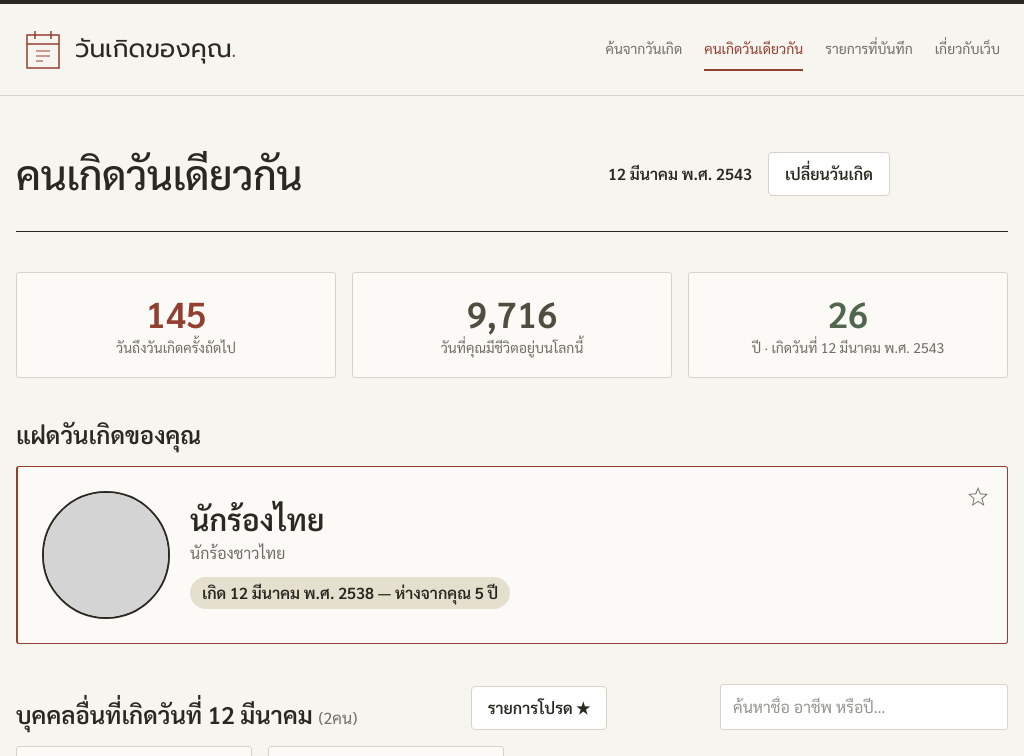
Test: shared birthday and birthday twins › can change the shared birthday from Twins
Expected: the text "นักร้องไทย" is shown, [190,499,324,538]
Click the button "เปลี่ยนวันเกิด".
click(829, 174)  # box [768,152,890,196]
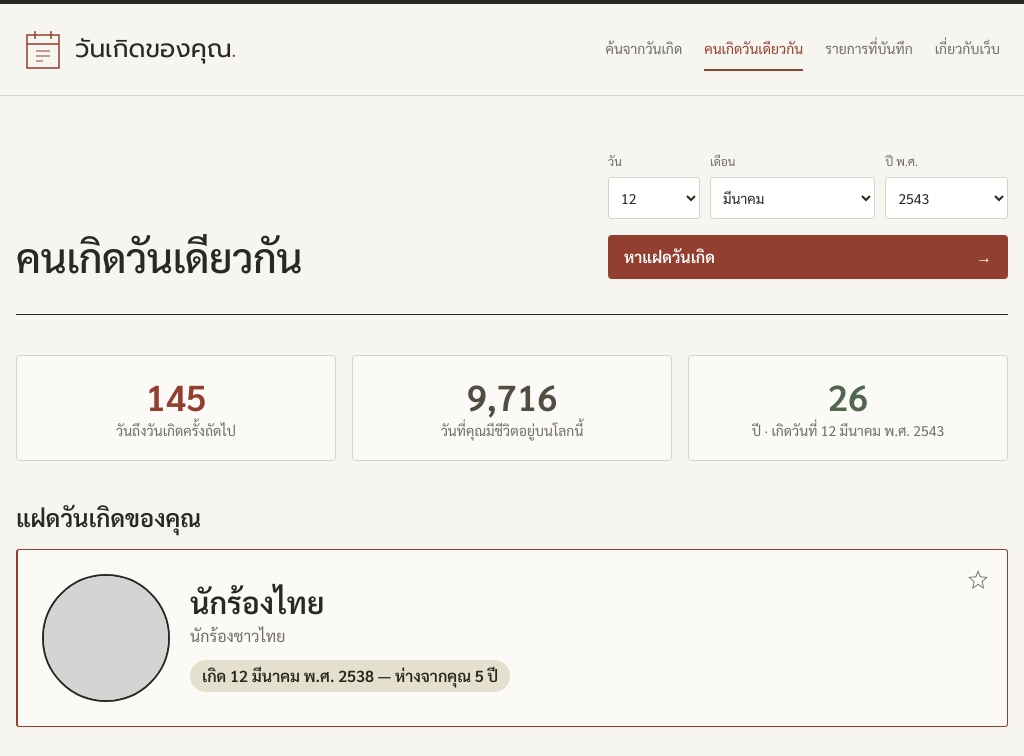
Select "15" in the dropdown labelled "วัน" at (654, 198), box [608,177,700,219]
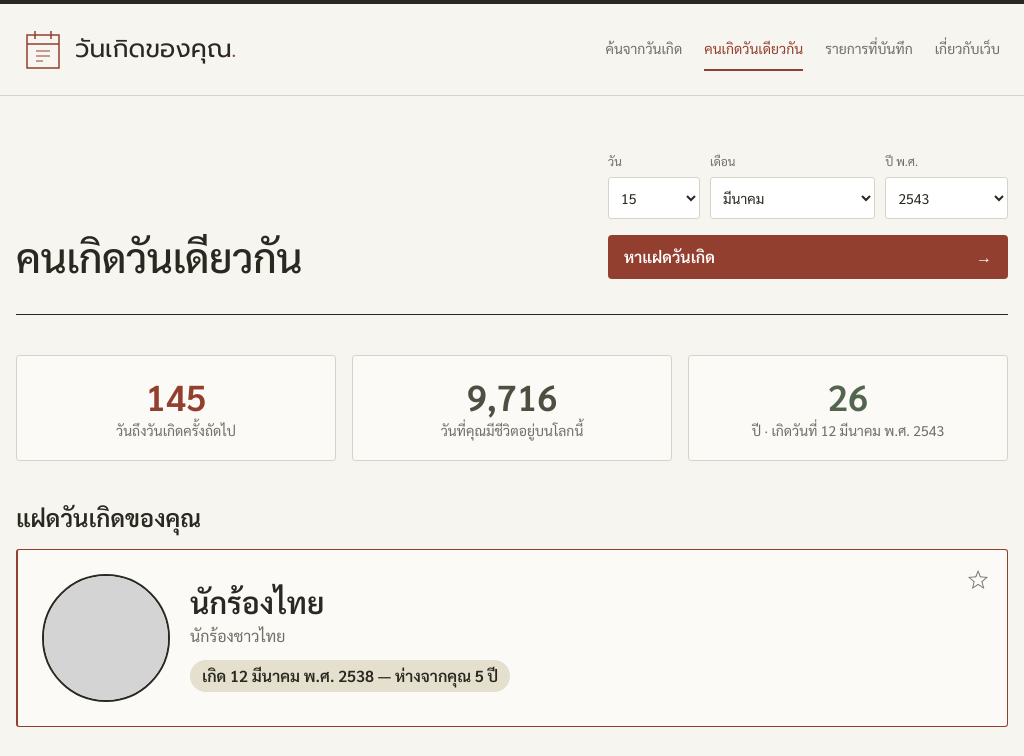
Click the button "หาแฝดวันเกิด →".
click(669, 256)  # box [608,235,1008,279]
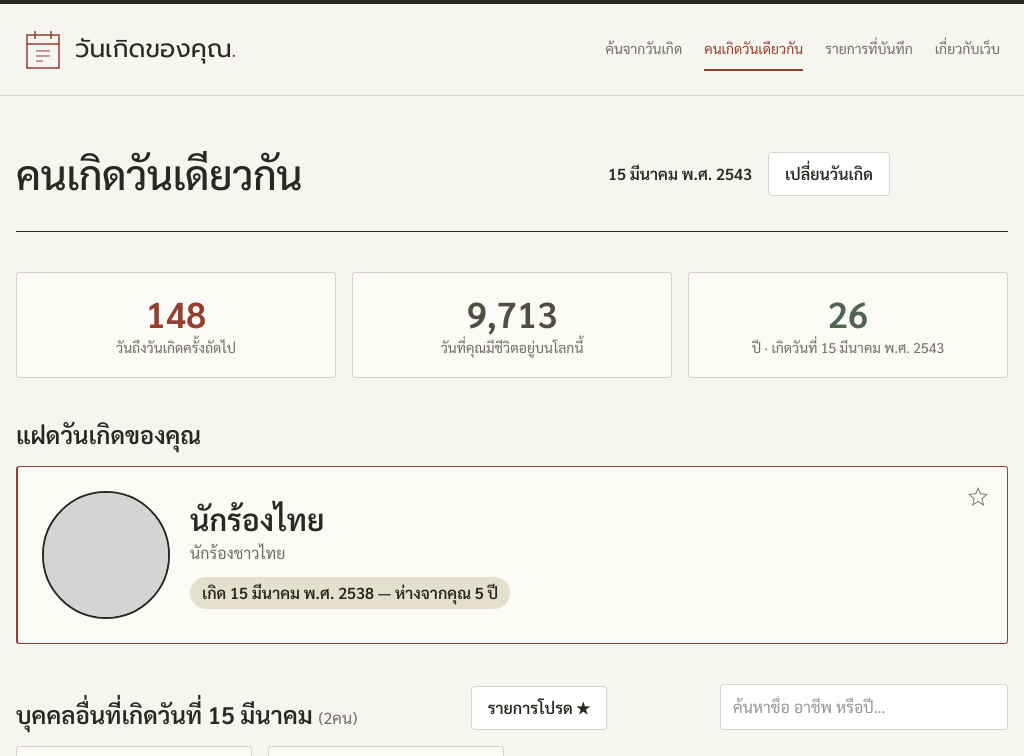
Expected: the dropdown is gone
